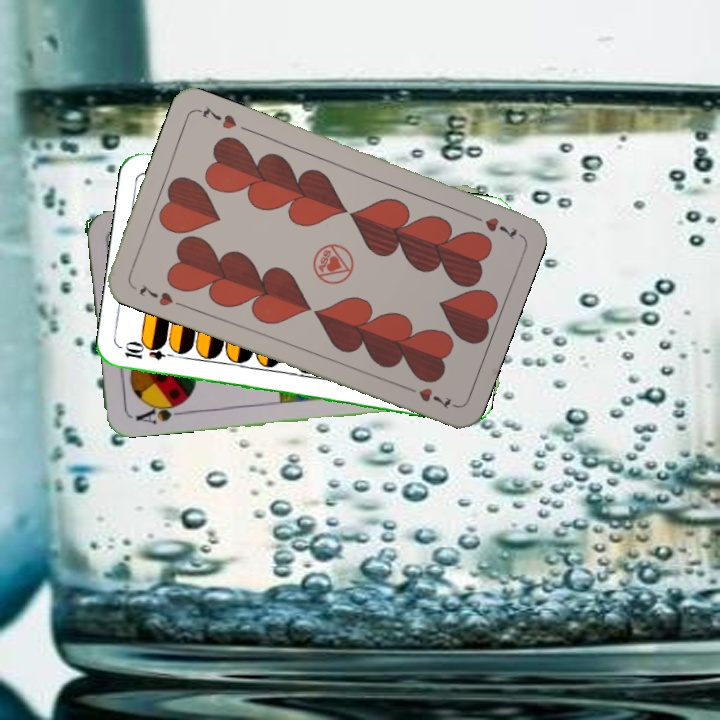E10: (121, 341, 180, 363)
H7: (466, 209, 520, 242), (135, 280, 176, 309)
SA: (131, 398, 185, 427)
